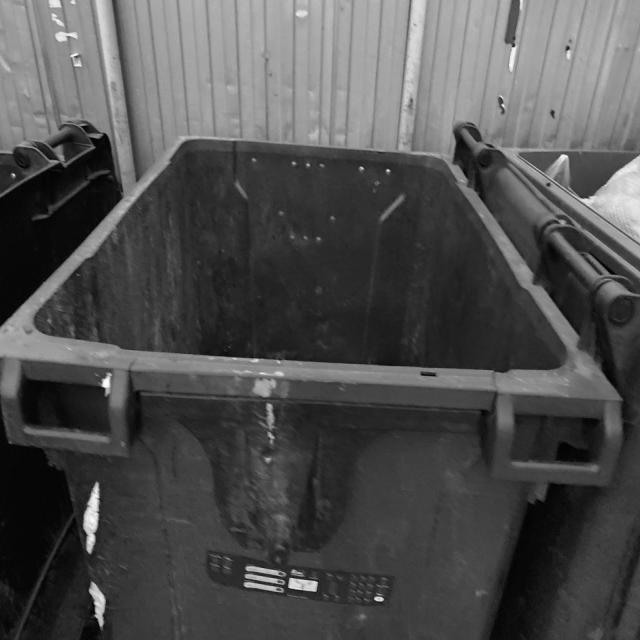bin: (0, 121, 640, 640), (0, 120, 122, 640)
